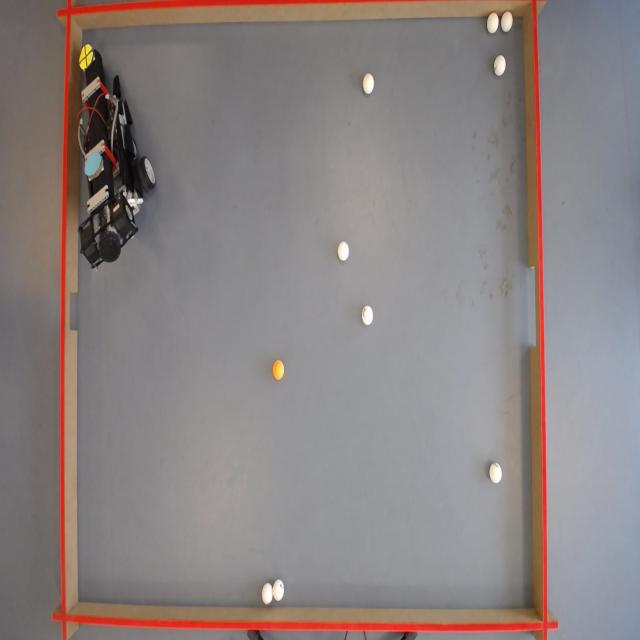orange: (272, 360, 286, 381)
robot: (71, 35, 159, 273)
robot-front: (77, 42, 94, 69)
robot-rear: (85, 149, 104, 179)
white: (272, 578, 286, 602), (338, 241, 352, 262), (494, 56, 507, 78), (487, 14, 500, 35), (361, 306, 374, 327), (362, 73, 374, 95), (262, 582, 273, 606), (490, 463, 503, 483), (501, 11, 513, 31)
